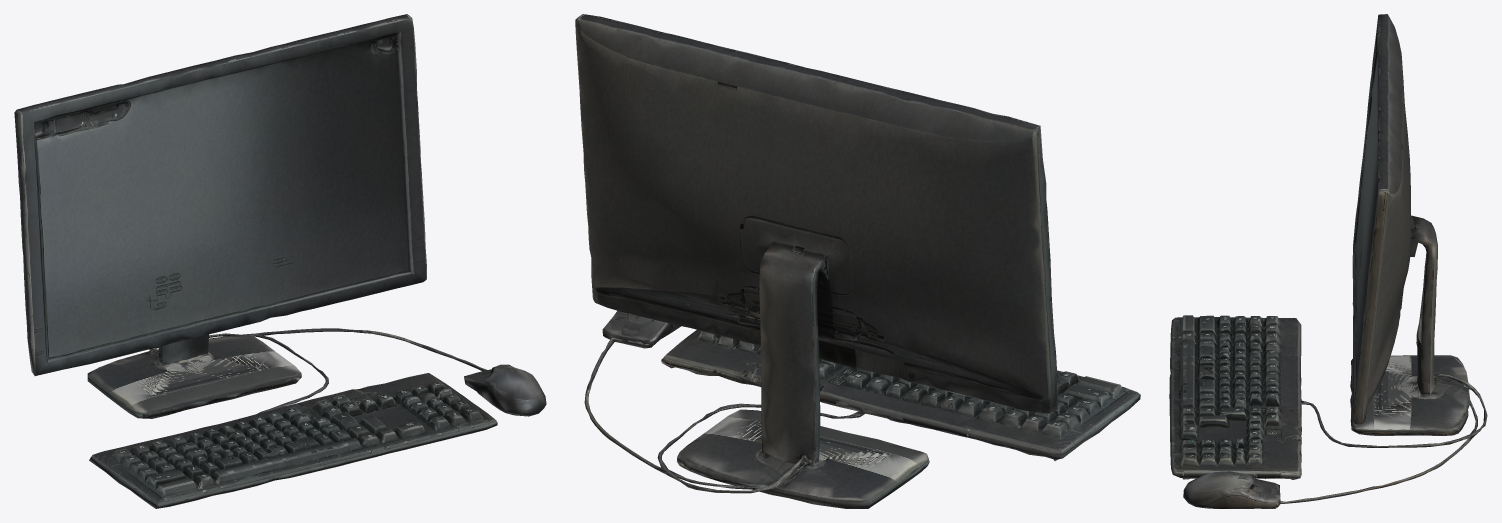
The model's file is monitor.glb.
3 renders of one model, left to right at view 1: azimuth 30°, elevation 25°; view 2: azimuth 150°, elevation 25°; view 3: azimuth 270°, elevation 25°, orthographic. The views are drawn at different scales.
Parts seen in each view (by area): view 1: texture_mapping; view 2: texture_mapping; view 3: texture_mapping.
Part boxes in pixels (x1,y1,x2,y2): texture_mapping: [14, 14, 546, 508]; texture_mapping: [575, 14, 1140, 508]; texture_mapping: [1169, 14, 1487, 508].
Bounding box in the file's own units: 1 × 0.7297 × 0.6894.
1 material, 1 textured.
